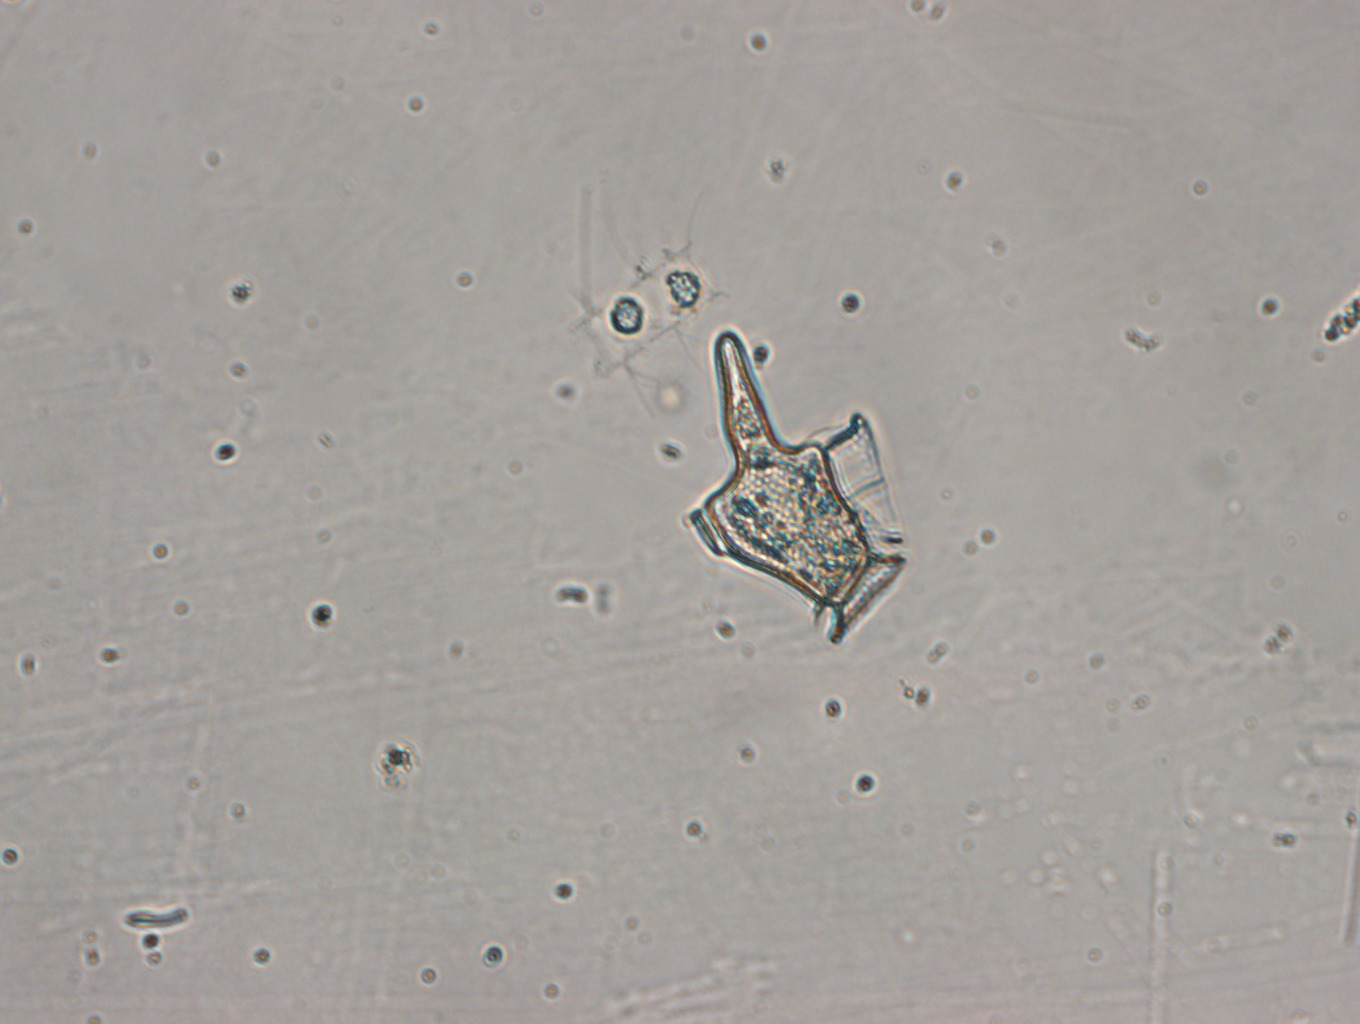chaetoceros: (566, 188, 740, 425)
dinophysis caudata: (685, 326, 906, 645)
